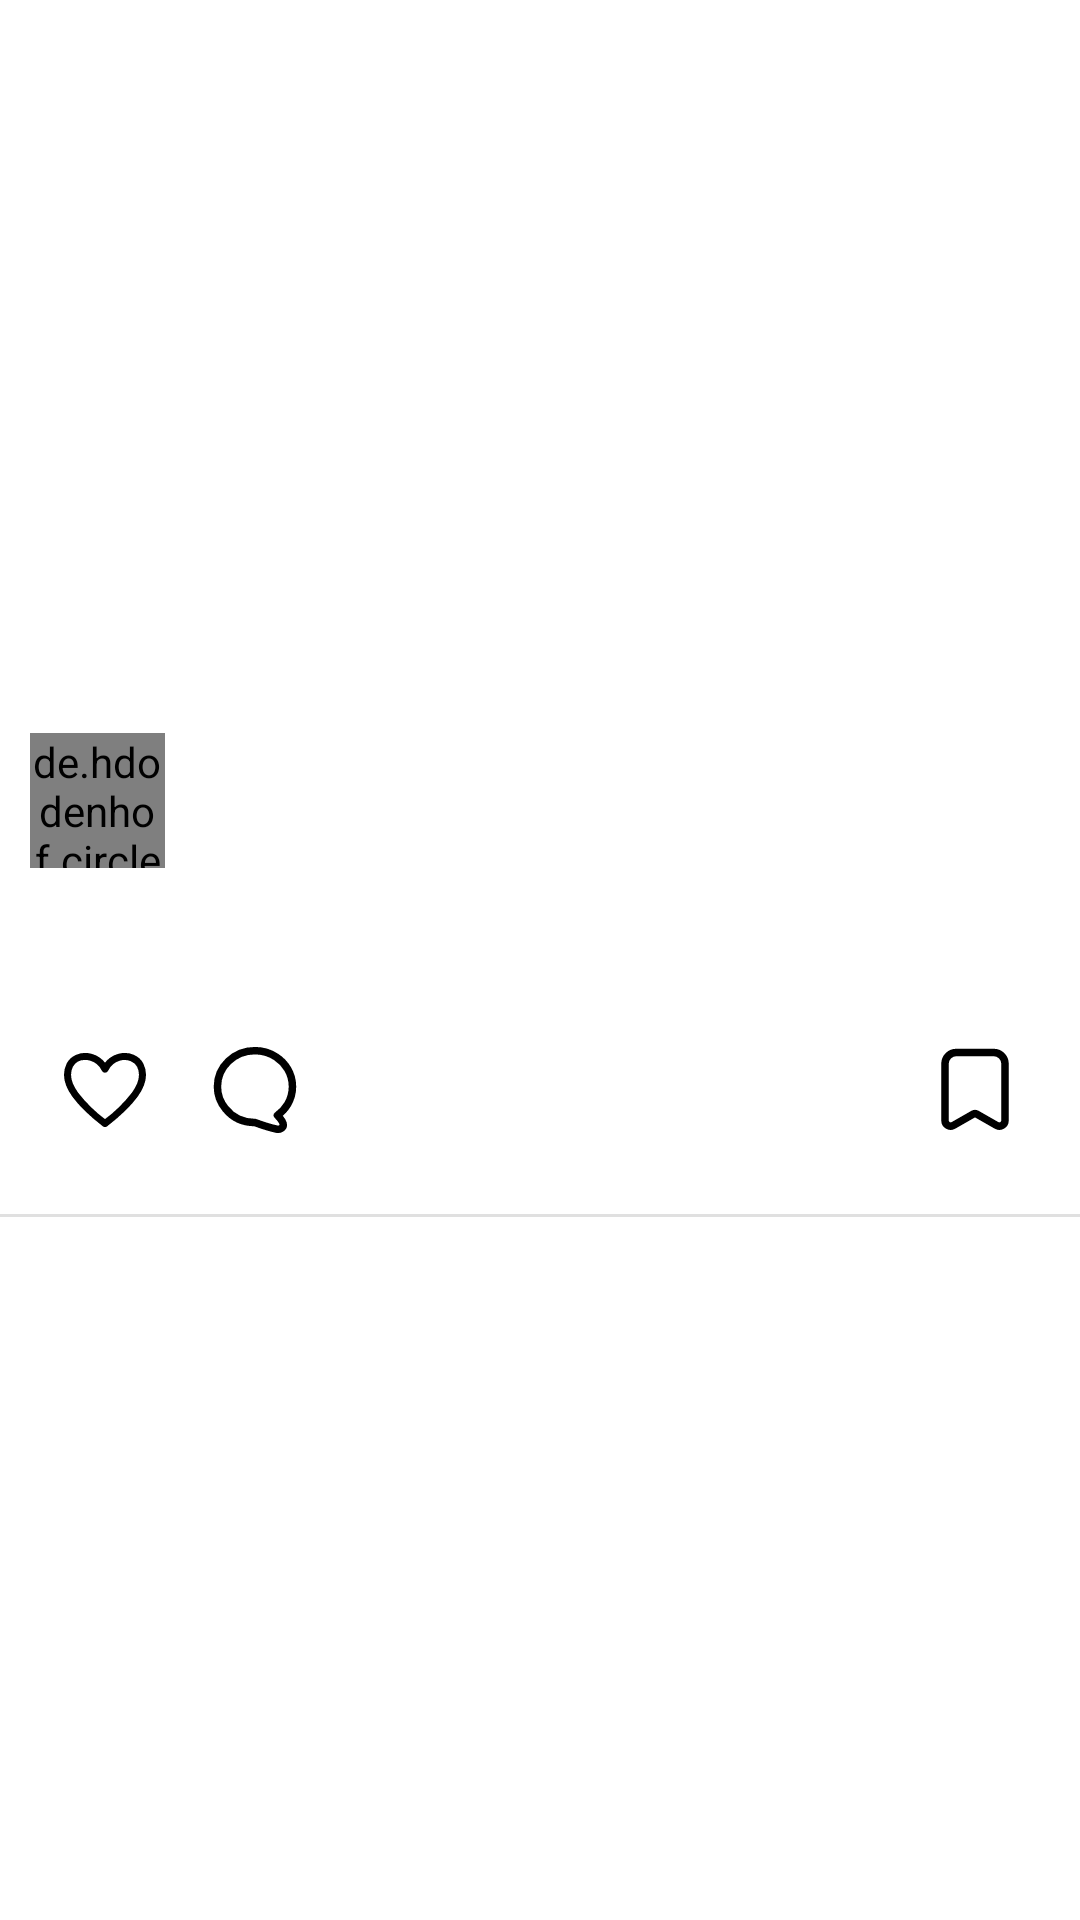

Icon bounding boxes for this 1080w x 1920h phone screenshot, format (x1, y1, x2, y2):
comment: (213, 1047, 297, 1133)
heart: (64, 1053, 146, 1127)
save: (941, 1048, 1009, 1130)
